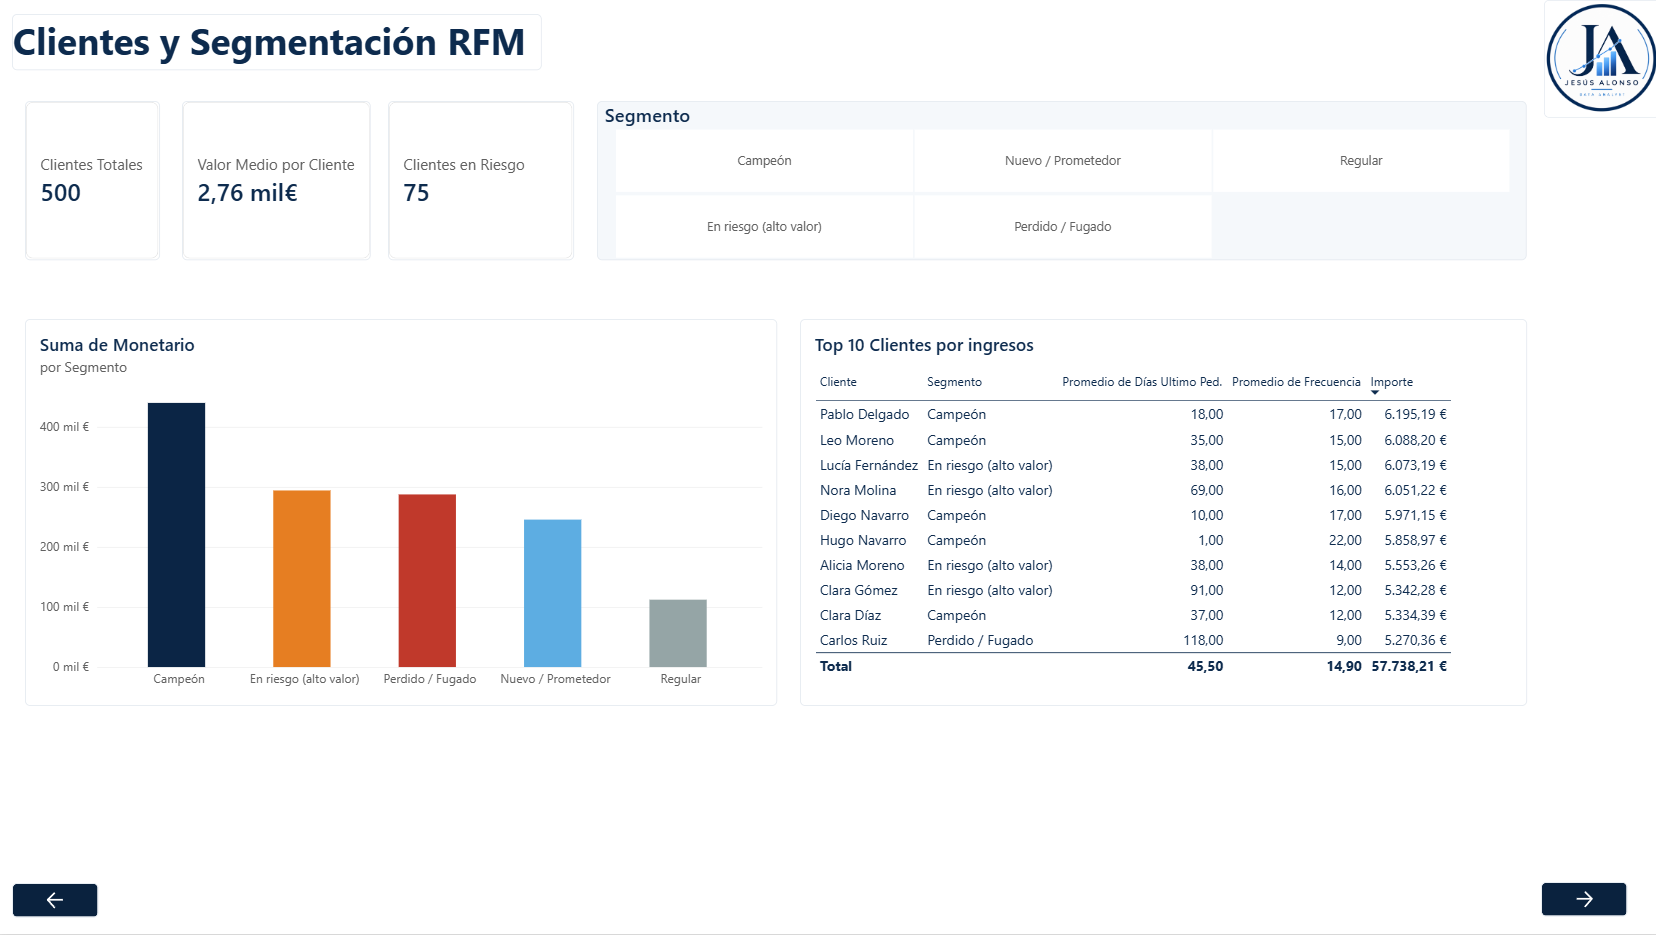

This screenshot's page, from the dashboard's own definition file:
{"tool":"powerbi","page":{"name":"Clientes_Segmentacion_RFM","canvas":[1920,1080],"ordinal":1},"visuals":[{"type":"textbox","box":[15.7,16.7,611.5,64.8],"z":0},{"type":"image","box":[1785.8,0,134.2,136.4],"z":1000},{"type":"actionButton","box":[15.7,1019.9,100,40],"z":2000},{"type":"slicer","fields":{"Values":["RFM_Clientes.Segmento"]},"box":[692,116.7,1074.4,183.7],"z":3000},{"type":"cardVisual","fields":{"Data":["_Medidas.Clientes Totales"]},"box":[31.2,116.7,156,183.7],"z":4000},{"type":"cardVisual","fields":{"Data":["_Medidas.Valor Medio por Cliente"]},"box":[212.6,116.7,218.3,183.7],"z":5000},{"type":"cardVisual","fields":{"Data":["_Medidas.Clientes en Riesgo"]},"box":[450.5,116.7,214.9,183.7],"z":6000},{"type":"columnChart","fields":{"Category":["RFM_Clientes.Segmento"],"Y":["Sum(RFM_Clientes.Monetario)"]},"box":[31.2,368.5,868.7,447.1],"z":7000},{"type":"tableEx","title":"Top 10 Clientes por ingresos","fields":{"Values":["DIM_Clientes.Cliente","RFM_Clientes.Segmento","Avg(RFM_Clientes.DiasDesdeUltimo)","Avg(RFM_Clientes.Frecuencia)","Sum(RFM_Clientes.Monetario)"]},"box":[926.5,368.5,839.9,447.1],"z":8000},{"type":"actionButton","box":[1782.5,1018.9,100,40],"z":8001}]}

Visuals, with their boxes in screenshot pixels (x1, y1, x2, y2), scaled from the page's 1920x1080 canvas onto the 1656x935 screenshot:
textbox: l=14, t=14, r=541, b=71
image: l=1540, t=0, r=1655, b=118
actionButton: l=14, t=883, r=100, b=918
slicer - RFM_Clientes.Segmento: l=597, t=101, r=1524, b=260
cardVisual - _Medidas.Clientes Totales: l=27, t=101, r=161, b=260
cardVisual - _Medidas.Valor Medio por Cliente: l=183, t=101, r=372, b=260
cardVisual - _Medidas.Clientes en Riesgo: l=389, t=101, r=574, b=260
columnChart - RFM_Clientes.Segmento x Sum(RFM_Clientes.Monetario): l=27, t=319, r=776, b=706
"Top 10 Clientes por ingresos" tableEx: l=799, t=319, r=1524, b=706
actionButton: l=1537, t=882, r=1624, b=917
